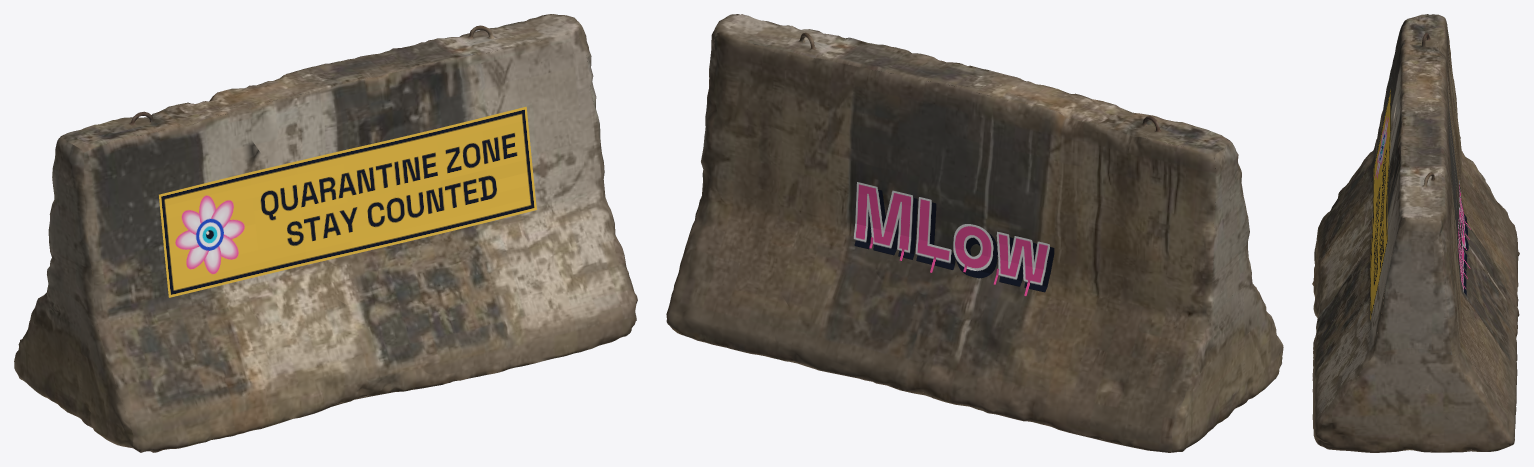
The model's file is nyb_legend_barrier.glb.
3 views of the same model, side by side, from view 1: azimuth 30°, elevation 25°; view 2: azimuth 150°, elevation 25°; view 3: azimuth 270°, elevation 25° (orthographic). The views are drawn at different scales.
Parts seen in each view (by area): view 1: concrete_road_barrier, stk_lbl_18f4ed8a8c.png; view 2: concrete_road_barrier, stk_tag_mlow.png; view 3: concrete_road_barrier, stk_lbl_18f4ed8a8c.png, stk_tag_mlow.png.
Part boxes in pixels (box(x1,y1,x2,y2)): concrete_road_barrier: box(14, 14, 637, 452); stk_lbl_18f4ed8a8c.png: box(159, 106, 536, 297); concrete_road_barrier: box(666, 14, 1283, 452); stk_tag_mlow.png: box(853, 182, 1054, 296); concrete_road_barrier: box(1312, 14, 1519, 452); stk_lbl_18f4ed8a8c.png: box(1370, 89, 1390, 319); stk_tag_mlow.png: box(1458, 180, 1470, 295).
Size of the model in its own units: 1.55 by 0.8309 by 0.6387.
3 materials, 3 textured.
